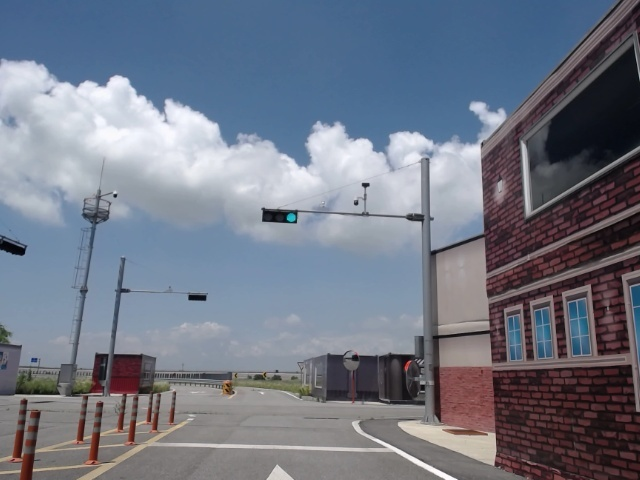green_3: (260, 207, 299, 223)
